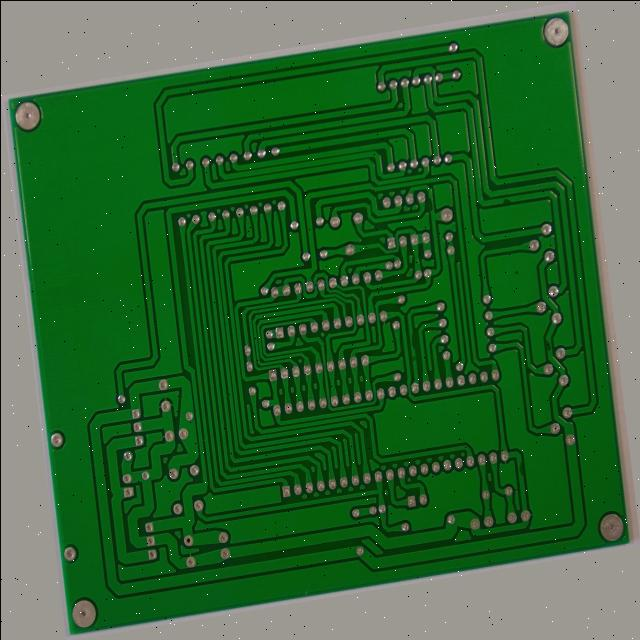mouse_bite: (413, 347, 424, 376), (561, 381, 572, 402), (514, 517, 523, 542), (531, 210, 547, 223), (452, 194, 460, 218)
